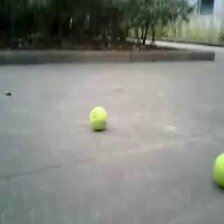tennis: (211, 152, 224, 186), (90, 107, 108, 131)
